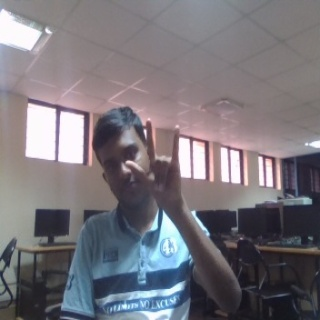I Love You: (125, 117, 185, 209)
